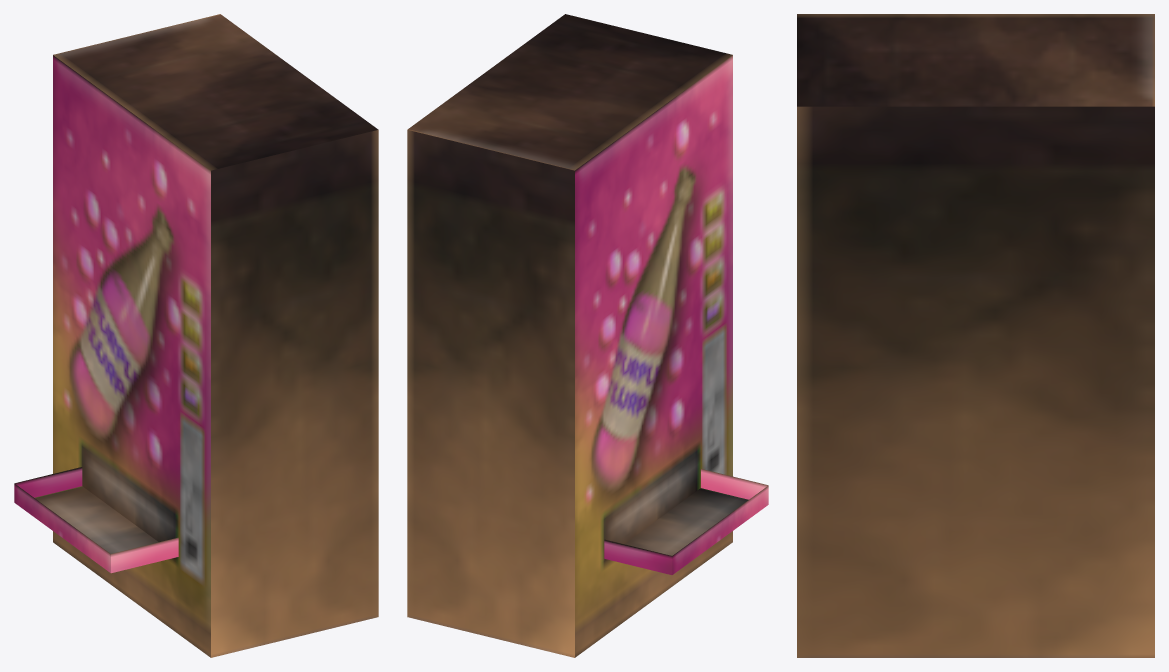
Rendered from flurpmachine.glb.
3 renders of one model, left to right at view 1: azimuth 30°, elevation 25°; view 2: azimuth 150°, elevation 25°; view 3: azimuth 270°, elevation 25°, orthographic. The views are drawn at different scales.
Visible parts, largest first — view 1: flurpmachine; view 2: flurpmachine; view 3: flurpmachine.
Boxes of the visible parts, x1=… form: flurpmachine: x1=14, y1=14, x2=378, y2=657; flurpmachine: x1=407, y1=14, x2=768, y2=657; flurpmachine: x1=797, y1=14, x2=1154, y2=657.
Bounding box in the file's own units: 204 × 403 × 237.
1 material, 1 textured.
